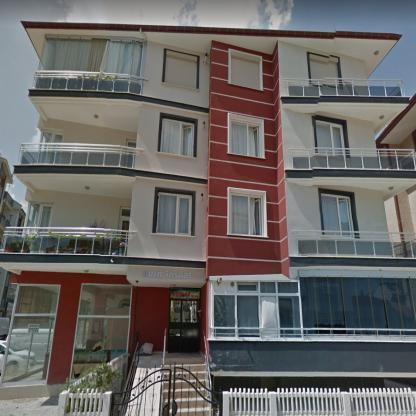door: (168, 300, 199, 350)
window: (260, 274, 415, 337), (69, 284, 131, 380), (3, 285, 60, 385), (38, 36, 144, 76), (212, 282, 258, 338), (156, 194, 191, 235), (320, 195, 354, 237), (231, 195, 262, 236), (161, 120, 192, 156), (164, 55, 198, 87), (230, 56, 260, 90), (231, 121, 260, 156), (316, 122, 344, 155), (311, 59, 339, 86), (39, 132, 63, 152), (120, 209, 130, 230), (128, 141, 136, 147)
